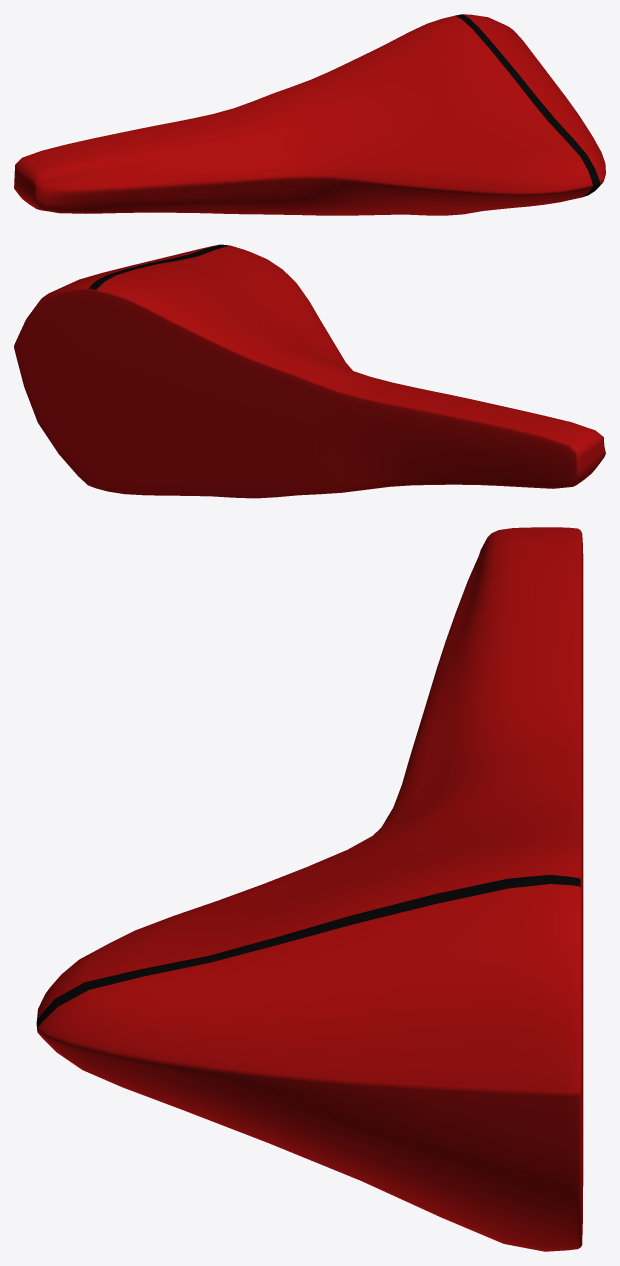
File: Left_Wing.fbx
3 views of the same model, one above another, from view 1: azimuth 30°, elevation 25°; view 2: azimuth 150°, elevation 25°; view 3: azimuth 270°, elevation 25° (orthographic). The views are drawn at different scales.
Parts seen in each view (by area): view 1: pCube1; view 2: pCube1; view 3: pCube1.
Part boxes in pixels (x1=…): pCube1: x1=14, y1=14, x2=605, y2=215; pCube1: x1=14, y1=244, x2=605, y2=498; pCube1: x1=36, y1=527, x2=583, y2=1251.
Bounding box in the file's own units: 6.54 × 2.25 × 2.99.
